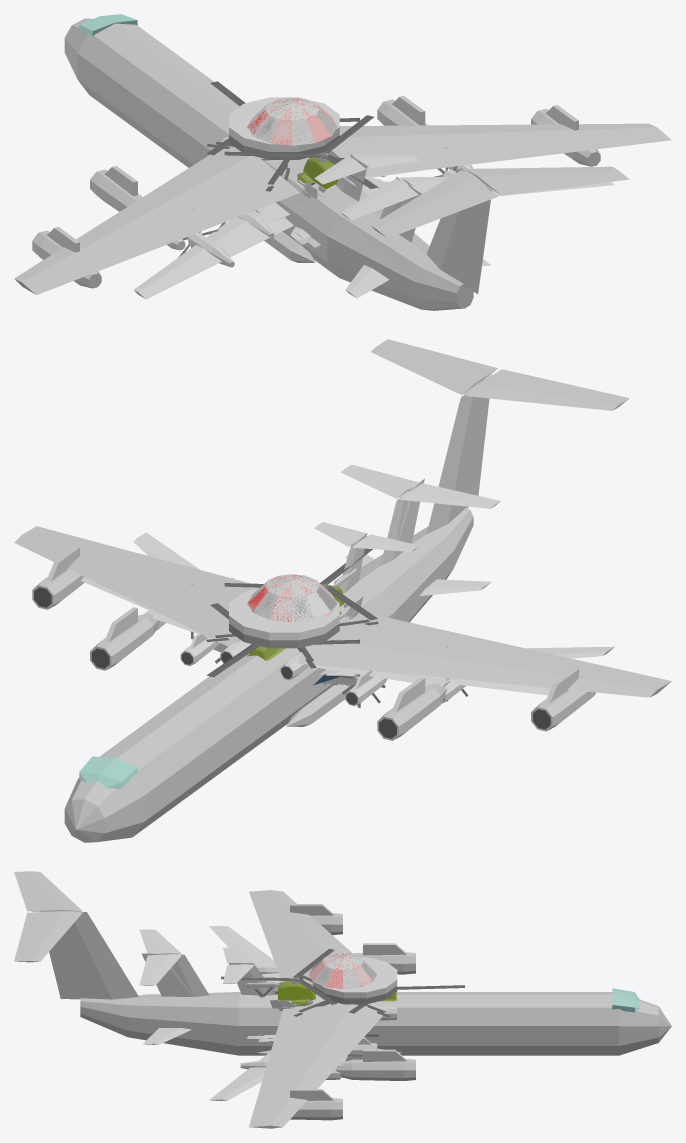
The model's file is aircraft.glb.
The picture shows the model from 3 angles, top to bottom: view 1: azimuth 30°, elevation 25°; view 2: azimuth 150°, elevation 25°; view 3: azimuth 270°, elevation 25°; orthographic projection. The views are drawn at different scales.
Parts seen in each view (by area): view 1: aircraft_030_lod0, aircraft_014_lod0, aircraft_011_lod0, aircraft_009_lod0_part1, aircraft_009_lod0, aircraft_006_lod0, aircraft_049_lod1_part2, aircraft_049_lod0, aircraft_000_lod0; view 2: aircraft_030_lod0, aircraft_009_lod0, aircraft_006_lod0, aircraft_009_lod0_part1, aircraft_014_lod0, aircraft_011_lod0; view 3: aircraft_030_lod0, aircraft_014_lod0, aircraft_009_lod0, aircraft_011_lod0, aircraft_009_lod0_part1, aircraft_006_lod0, aircraft_049_lod0, aircraft_049_lod1_part2.
Boxes of the visible parts, left/top/right/bottom form: aircraft_030_lod0: left=14, top=14, right=671, bottom=310; aircraft_014_lod0: left=134, top=147, right=614, bottom=299; aircraft_011_lod0: left=247, top=97, right=337, bottom=145; aircraft_009_lod0_part1: left=229, top=97, right=339, bottom=159; aircraft_009_lod0: left=167, top=164, right=473, bottom=250; aircraft_006_lod0: left=221, top=137, right=419, bottom=201; aircraft_049_lod1_part2: left=224, top=115, right=376, bottom=188; aircraft_049_lod0: left=297, top=157, right=338, bottom=189; aircraft_000_lod0: left=253, top=182, right=377, bottom=238; aircraft_030_lod0: left=14, top=339, right=671, bottom=842; aircraft_009_lod0: left=80, top=464, right=550, bottom=706; aircraft_006_lod0: left=144, top=522, right=450, bottom=687; aircraft_009_lod0_part1: left=229, top=588, right=339, bottom=648; aircraft_014_lod0: left=133, top=478, right=614, bottom=707; aircraft_011_lod0: left=247, top=574, right=337, bottom=622; aircraft_030_lod0: left=14, top=871, right=671, bottom=1128; aircraft_014_lod0: left=142, top=925, right=281, bottom=1101; aircraft_009_lod0: left=139, top=929, right=377, bottom=1079; aircraft_011_lod0: left=308, top=952, right=377, bottom=989; aircraft_009_lod0_part1: left=313, top=957, right=397, bottom=1004; aircraft_006_lod0: left=223, top=947, right=396, bottom=1066; aircraft_049_lod0: left=278, top=980, right=397, bottom=1005; aircraft_049_lod1_part2: left=221, top=949, right=336, bottom=1004.
Size of what is drawn, in the model's own units: 1112 by 313 by 1313.
